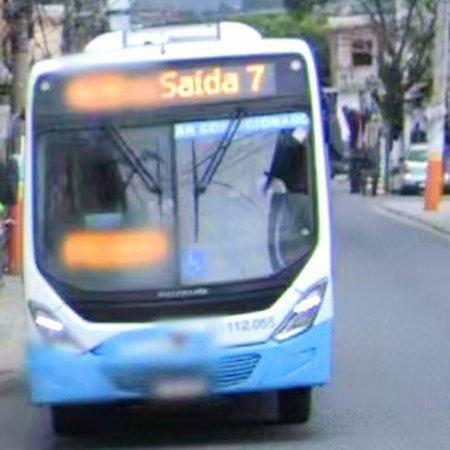buses: (25, 23, 335, 431)
